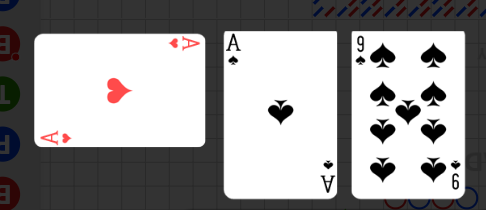9S: (354, 34, 367, 67)
AH: (165, 36, 201, 53), (39, 129, 75, 145)
